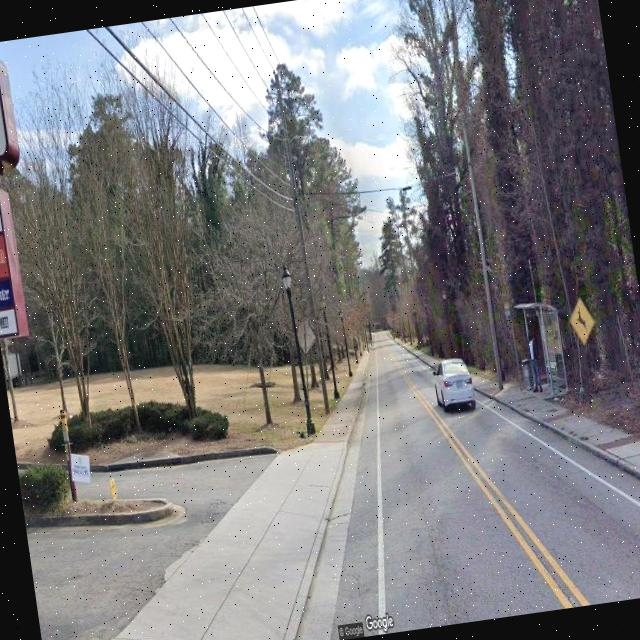seating: (546, 361, 560, 388)
shelter: (508, 298, 570, 399)
trash_can: (522, 361, 538, 391)
